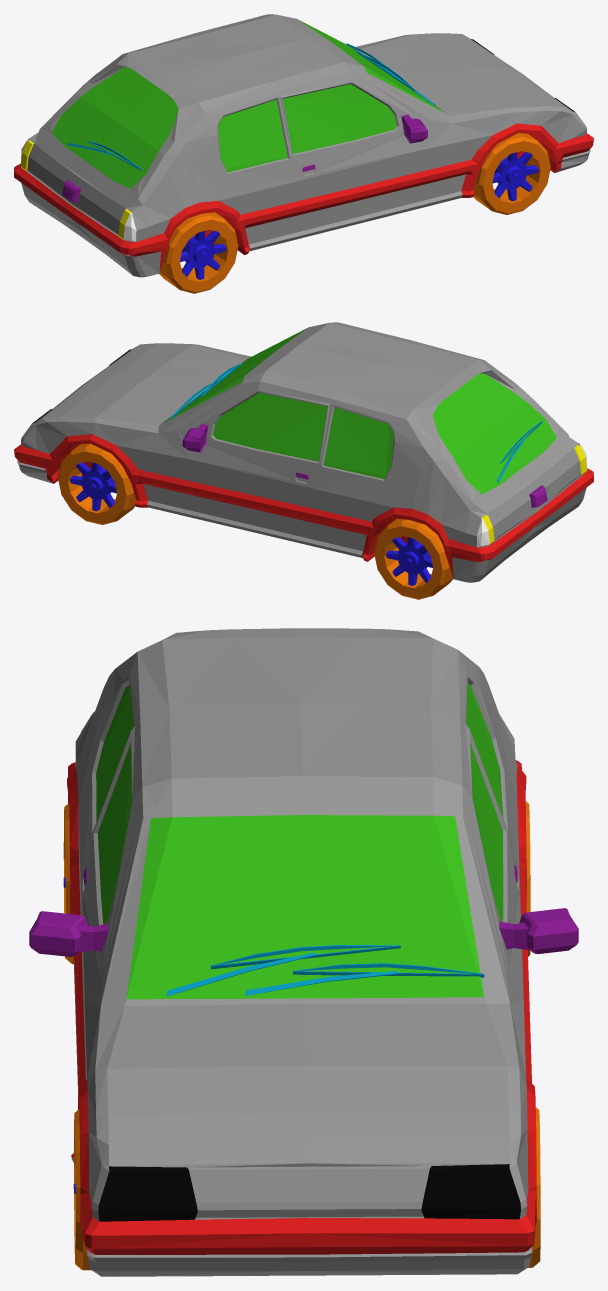
Rendered from Auto1.FBX.
The picture shows the model from 3 angles, top to bottom: view 1: azimuth 30°, elevation 25°; view 2: azimuth 150°, elevation 25°; view 3: azimuth 270°, elevation 25°; orthographic projection. The views are drawn at different scales.
Visible parts, largest first — view 1: Object001; view 2: Object001; view 3: Object001.
Boxes of the visible parts, x1=… form: Object001: x1=14, y1=14, x2=593, y2=293; Object001: x1=14, y1=322, x2=593, y2=599; Object001: x1=29, y1=628, x2=578, y2=1276.
Size of the model in its own units: 355 by 122 by 178.
